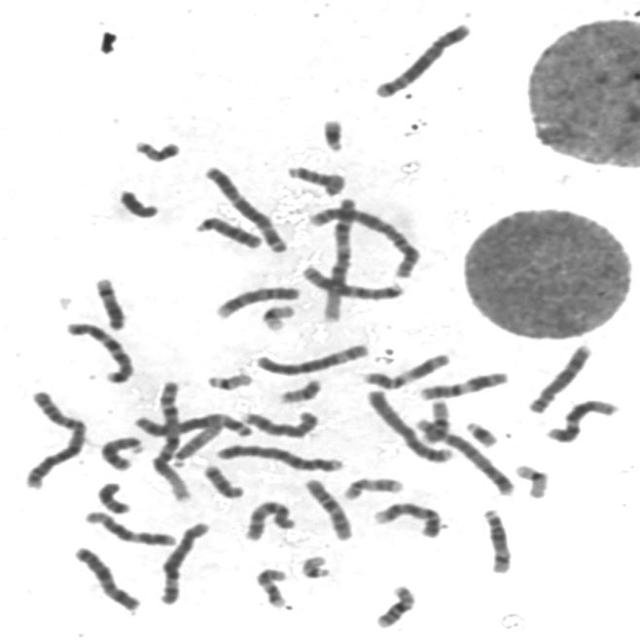A1: (148, 375, 194, 505), (317, 191, 361, 324)
A2: (304, 201, 424, 279), (18, 386, 90, 491)
A3: (199, 161, 292, 254), (129, 409, 257, 439)
B4: (362, 385, 456, 465), (212, 439, 348, 474)
B5: (410, 413, 518, 497), (370, 18, 476, 100)
C10: (301, 474, 357, 543), (240, 496, 298, 543)
C11: (359, 350, 453, 390), (414, 367, 512, 401)
C12: (81, 507, 179, 548), (542, 395, 622, 444)
C6: (155, 516, 213, 606), (251, 338, 372, 378)
C7: (60, 316, 137, 386), (298, 260, 408, 302)
C8: (524, 339, 596, 415), (238, 406, 322, 440)
C9: (212, 282, 304, 321), (370, 497, 446, 539)
D13: (192, 212, 266, 250), (96, 432, 147, 472)
D14: (478, 504, 516, 575), (90, 273, 130, 332)
D15: (167, 418, 224, 468), (282, 161, 349, 197)
E16: (371, 581, 419, 629), (418, 396, 453, 445)
E17: (338, 474, 406, 502), (251, 564, 292, 609)
E18: (198, 460, 247, 500), (92, 478, 134, 515)
F19: (510, 460, 552, 500), (258, 300, 298, 332)
F20: (129, 134, 184, 164), (275, 375, 325, 405)
G21: (460, 416, 502, 449), (317, 113, 348, 153)
G22: (202, 368, 256, 392), (296, 551, 334, 580)
X: (69, 542, 144, 613)
Y: (114, 185, 162, 220)
